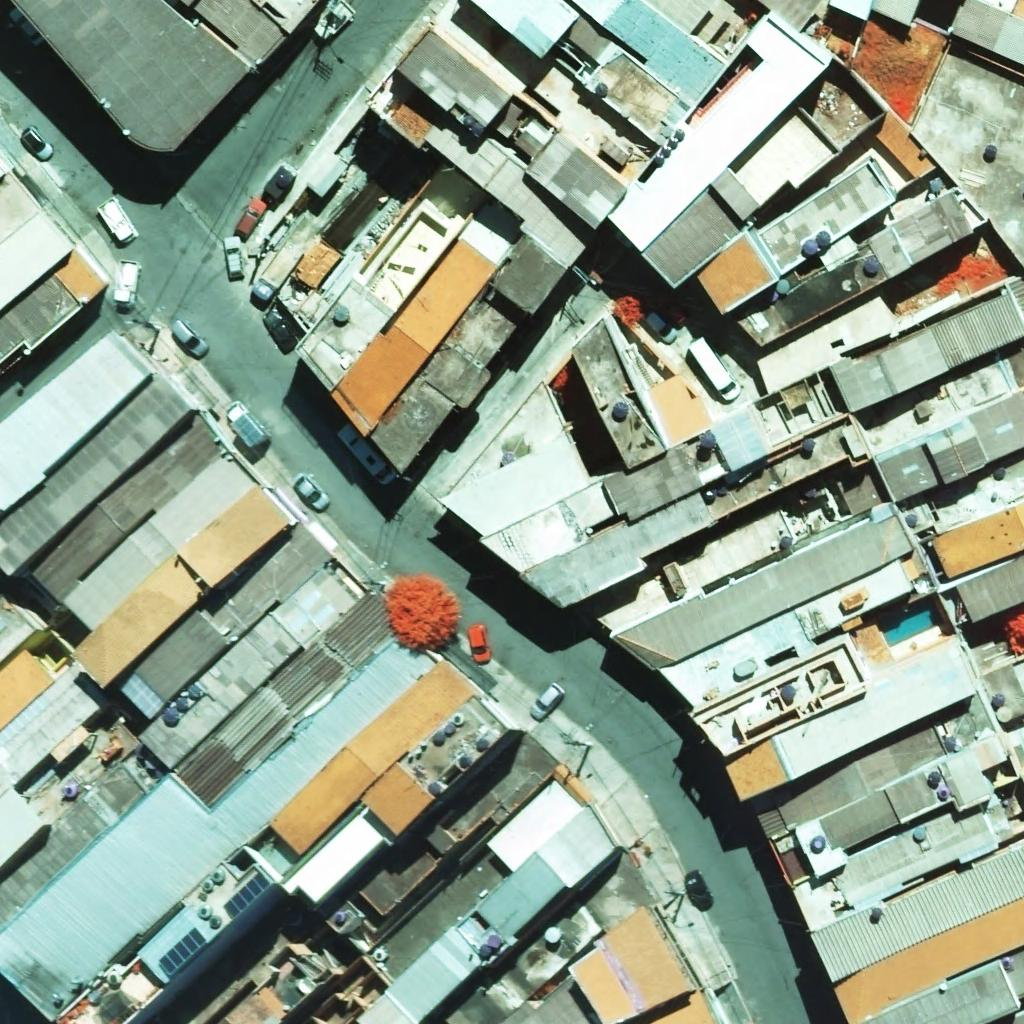pool: (877, 597, 944, 647)
